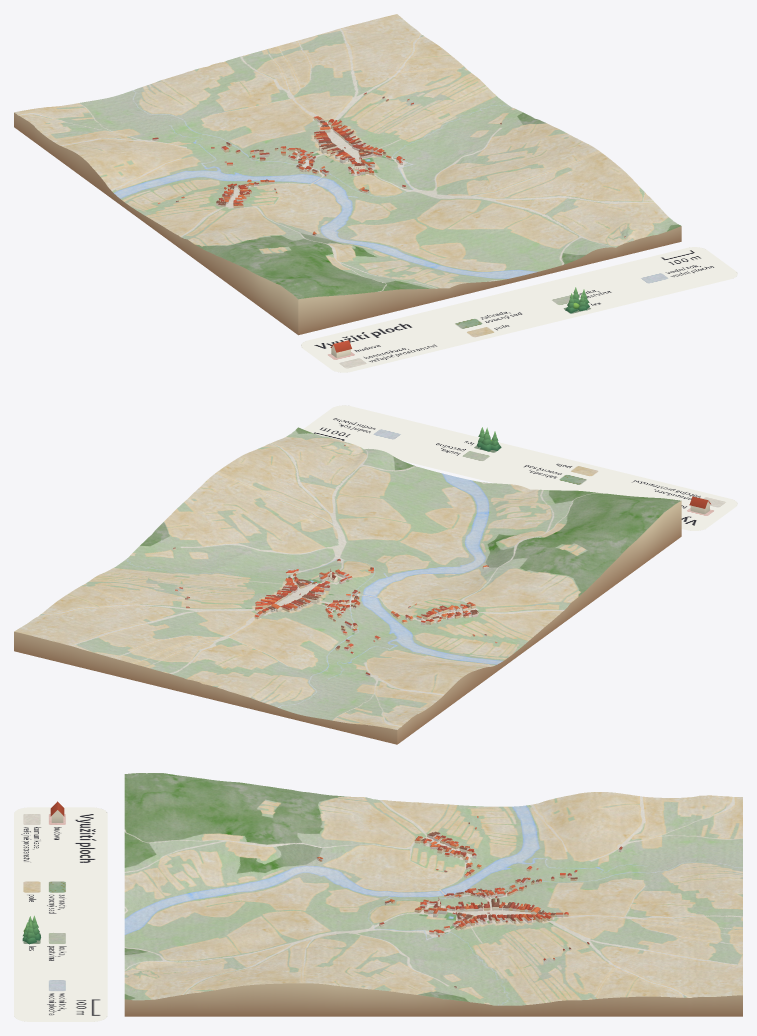
The model's file is Frymburk_base_CO.glb.
The picture shows the model from 3 angles, top to bottom: view 1: azimuth 30°, elevation 25°; view 2: azimuth 150°, elevation 25°; view 3: azimuth 270°, elevation 25°; orthographic projection. The views are drawn at different scales.
Visible parts, largest first — view 1: DMR_CO, legenda_panel, budovy_CO, legenda_objekty; view 2: DMR_CO, legenda_panel, budovy_CO, legenda_objekty; view 3: DMR_CO, legenda_panel, budovy_CO, legenda_objekty.
Boxes of the visible parts, bbox=[...] form: DMR_CO: bbox=[14, 14, 681, 335]; legenda_panel: bbox=[301, 247, 737, 372]; budovy_CO: bbox=[152, 92, 625, 238]; legenda_objekty: bbox=[330, 287, 589, 357]; DMR_CO: bbox=[14, 427, 681, 744]; legenda_panel: bbox=[303, 405, 737, 530]; budovy_CO: bbox=[173, 445, 497, 676]; legenda_objekty: bbox=[477, 427, 710, 514]; DMR_CO: bbox=[124, 773, 742, 1016]; legenda_panel: bbox=[14, 807, 107, 1021]; budovy_CO: bbox=[316, 816, 622, 988]; legenda_objekty: bbox=[22, 801, 64, 944].
Size of the model in its own units: 1490 by 133 by 2140.
6 materials, 2 textured.
